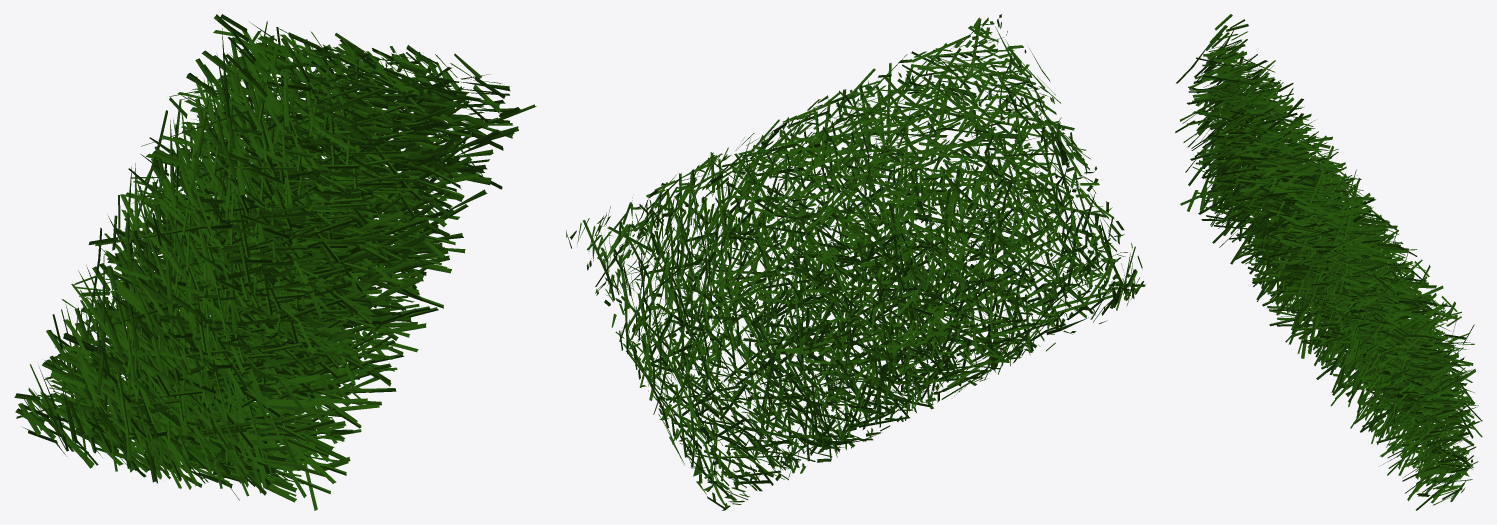
The model's file is grass-block.fbx.
The picture shows the model from 3 angles, left to right: view 1: azimuth 30°, elevation 25°; view 2: azimuth 150°, elevation 25°; view 3: azimuth 270°, elevation 25°; orthographic projection. The views are drawn at different scales.
Visible parts, largest first — view 1: weed14; view 2: weed14; view 3: weed14.
Part boxes in pixels (bbox=[...]): weed14: bbox=[14, 14, 536, 510]; weed14: bbox=[566, 14, 1145, 510]; weed14: bbox=[1175, 14, 1482, 510].
Bounding box in the file's own units: 40.86 × 38.66 × 25.59.
